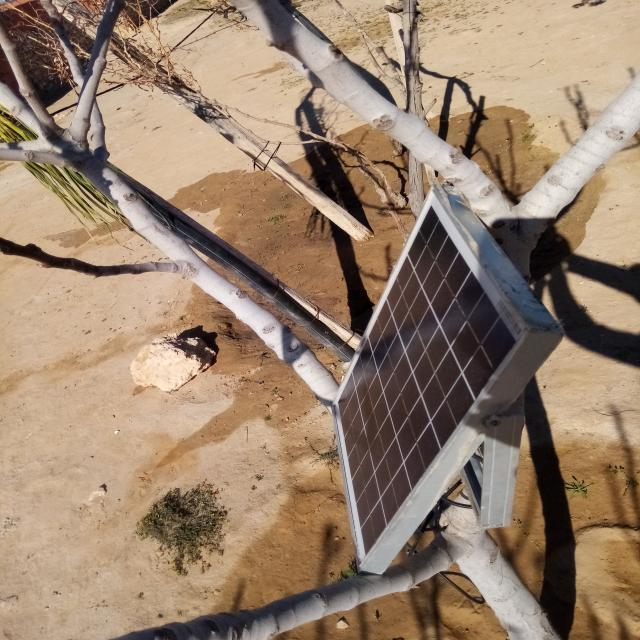no faulty: (328, 192, 537, 562)
